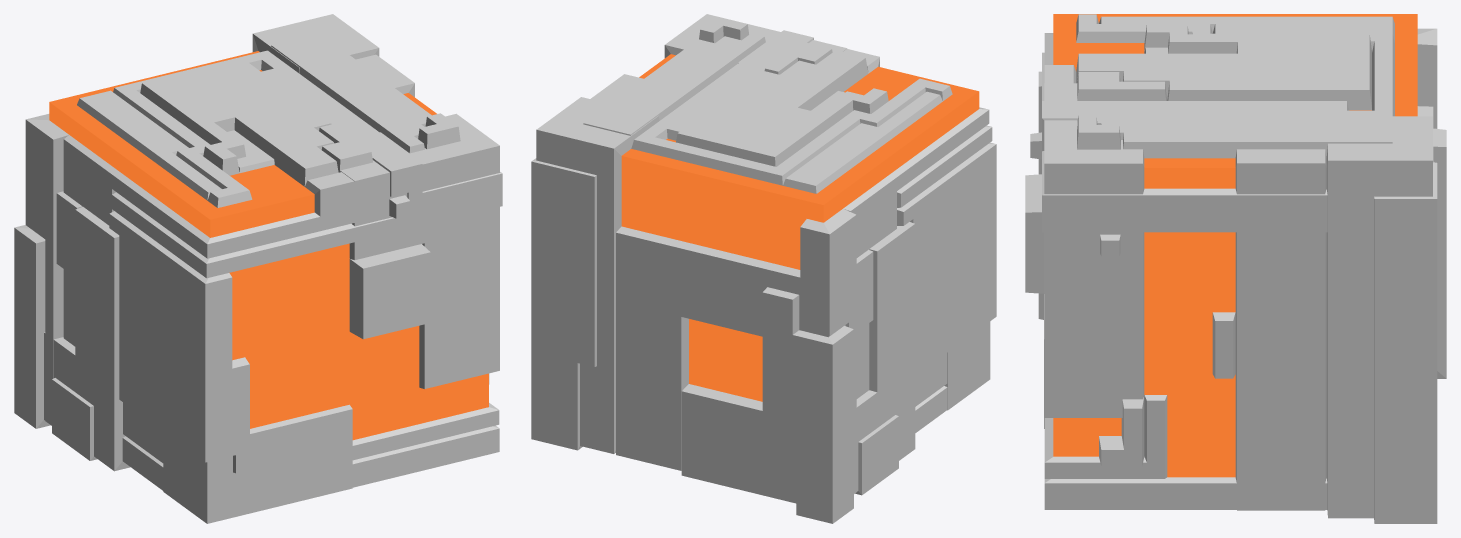
Rendered from FragmentCube02.glb.
3 renders of one model, left to right at view 1: azimuth 30°, elevation 25°; view 2: azimuth 150°, elevation 25°; view 3: azimuth 270°, elevation 25°, orthographic. The views are drawn at different scales.
Visible parts, largest first — view 1: Cube.022_RLExtr, Cube.022_RLExtr.001, FragmentCube02; view 2: Cube.022_RLExtr, Cube.022_RLExtr.001, FragmentCube02; view 3: Cube.022_RLExtr, Cube.022_RLExtr.001, FragmentCube02.
Boxes of the visible parts, left/top/right/bottom form: Cube.022_RLExtr: left=14, top=33, right=502, bottom=490; Cube.022_RLExtr.001: left=44, top=14, right=499, bottom=523; FragmentCube02: left=49, top=51, right=488, bottom=440; Cube.022_RLExtr: left=531, top=17, right=996, bottom=523; Cube.022_RLExtr.001: left=536, top=14, right=990, bottom=503; FragmentCube02: left=621, top=54, right=979, bottom=401; Cube.022_RLExtr: left=1030, top=14, right=1446, bottom=523; Cube.022_RLExtr.001: left=1025, top=47, right=1433, bottom=518; FragmentCube02: left=1053, top=14, right=1417, bottom=477.
Size of the model in its own units: 3.01 by 3.01 by 3.02.
